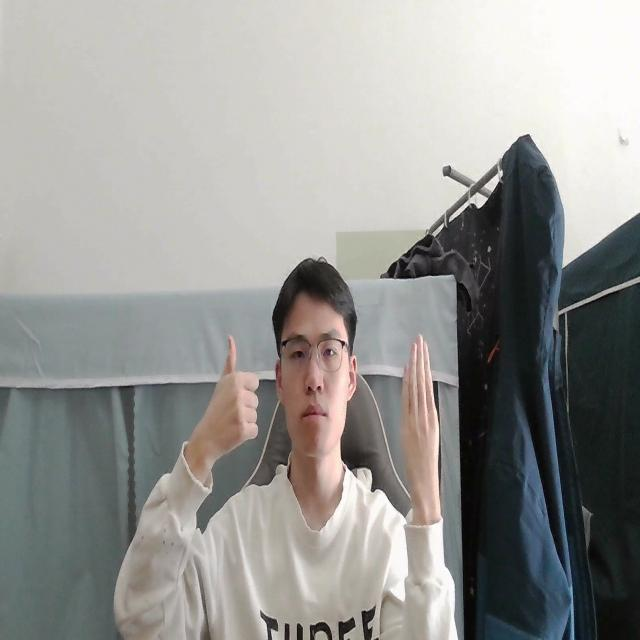four: (402, 332, 444, 517)
good: (202, 333, 260, 462)
